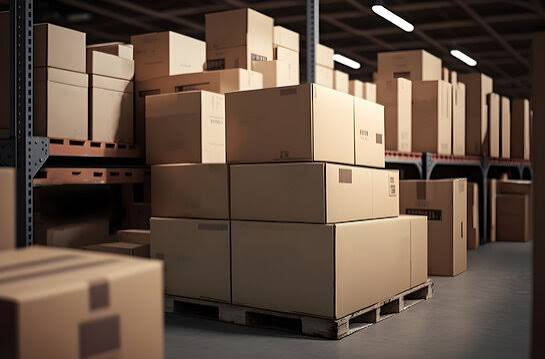box: (238, 218, 413, 294), (226, 87, 391, 161), (230, 162, 420, 222), (147, 216, 235, 287), (387, 49, 458, 134), (144, 86, 219, 157), (424, 178, 475, 260), (146, 166, 230, 209), (143, 30, 200, 74), (49, 70, 88, 133), (98, 80, 136, 136), (211, 9, 271, 42), (43, 29, 88, 70), (91, 47, 139, 79)
